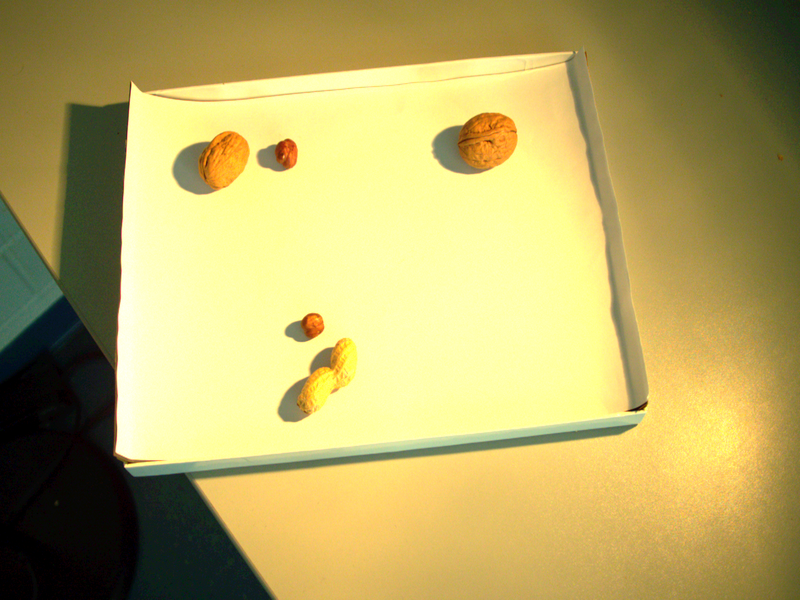walnut: (455, 107, 527, 176), (196, 128, 256, 195)
